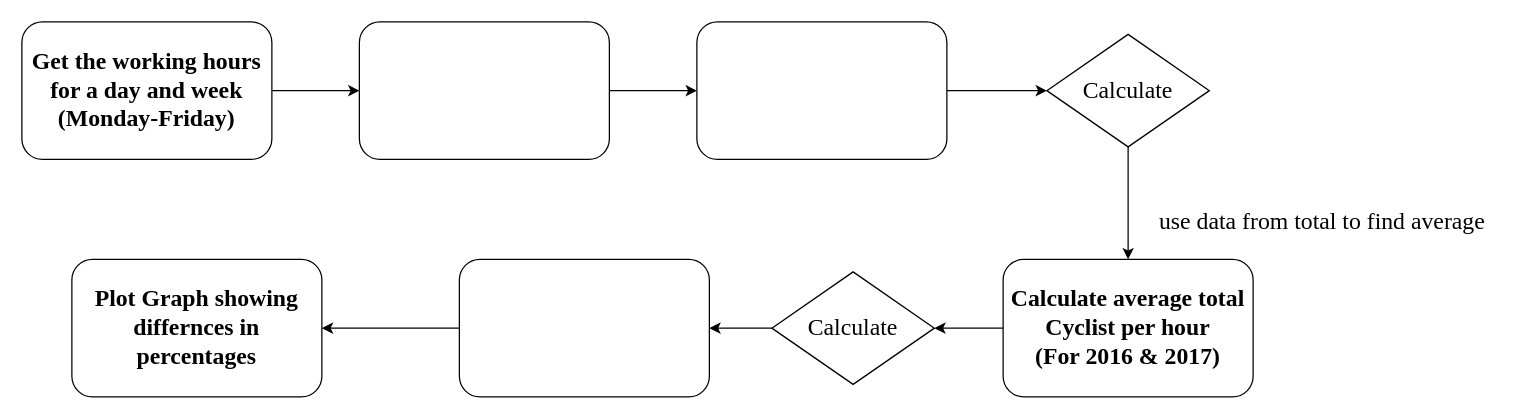
Some shapes in this 1519 by 419 pixel diagram are drawn without their labels. The centre of each missing label's shape, as x and y in pixels:
Calculate the percentage difference for each hour in the years 2016 and 2017: point (583, 327)
Calculate total Cyclist on the roads per hour (For 2016 & 2017): point (821, 90)
Get the first week of the month of April.: point (483, 90)
